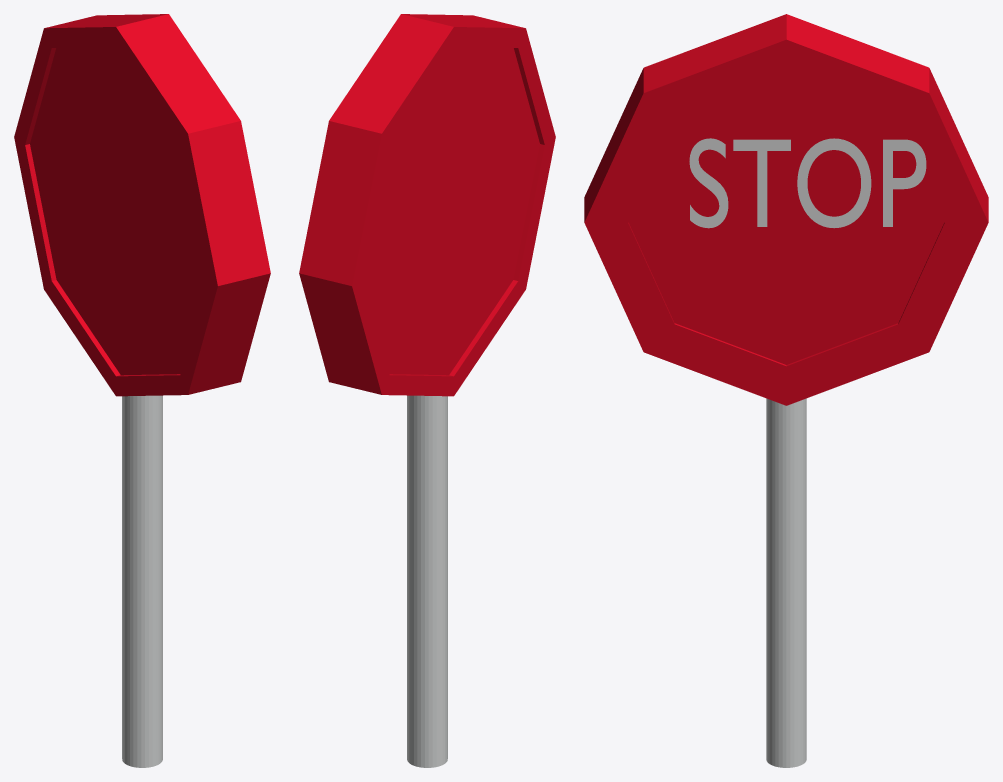
The model's file is StopSign.fbx.
3 renders of one model, left to right at view 1: azimuth 30°, elevation 25°; view 2: azimuth 150°, elevation 25°; view 3: azimuth 270°, elevation 25°, orthographic.
Visible parts, largest first — view 1: Cylinder.001; view 2: Cylinder.001; view 3: Cylinder.001, Text.
Boxes of the visible parts, bbox=[...] form: Cylinder.001: bbox=[14, 14, 270, 767]; Cylinder.001: bbox=[299, 14, 555, 767]; Cylinder.001: bbox=[584, 14, 988, 767]; Text: bbox=[689, 138, 926, 228].
Bounding box in the file's own units: 3.5 × 40 × 20.
